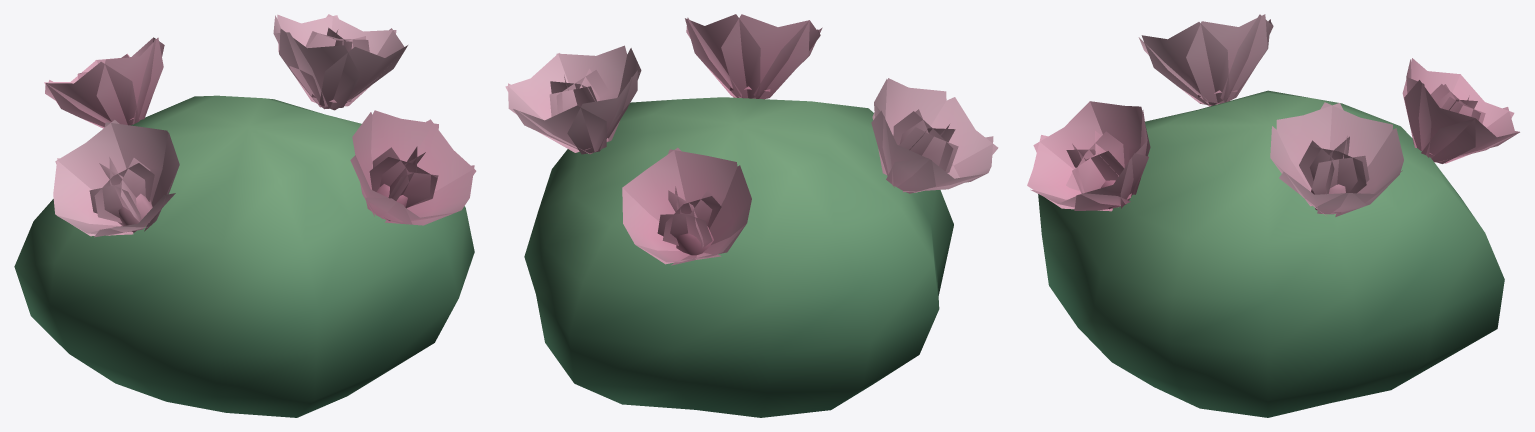
The model's file is peony.glb.
The picture shows the model from 3 angles, left to right: view 1: azimuth 30°, elevation 25°; view 2: azimuth 150°, elevation 25°; view 3: azimuth 270°, elevation 25°; orthographic projection.
Parts seen in each view (by area): view 1: peony; view 2: peony; view 3: peony.
Part boxes in pixels (left/top/right/bottom): peony: left=14, top=14, right=476, bottom=417; peony: left=505, top=14, right=998, bottom=417; peony: left=1027, top=14, right=1519, bottom=417.
Size of what is drawn, in the model's own units: 1.23 by 0.8 by 1.28.
